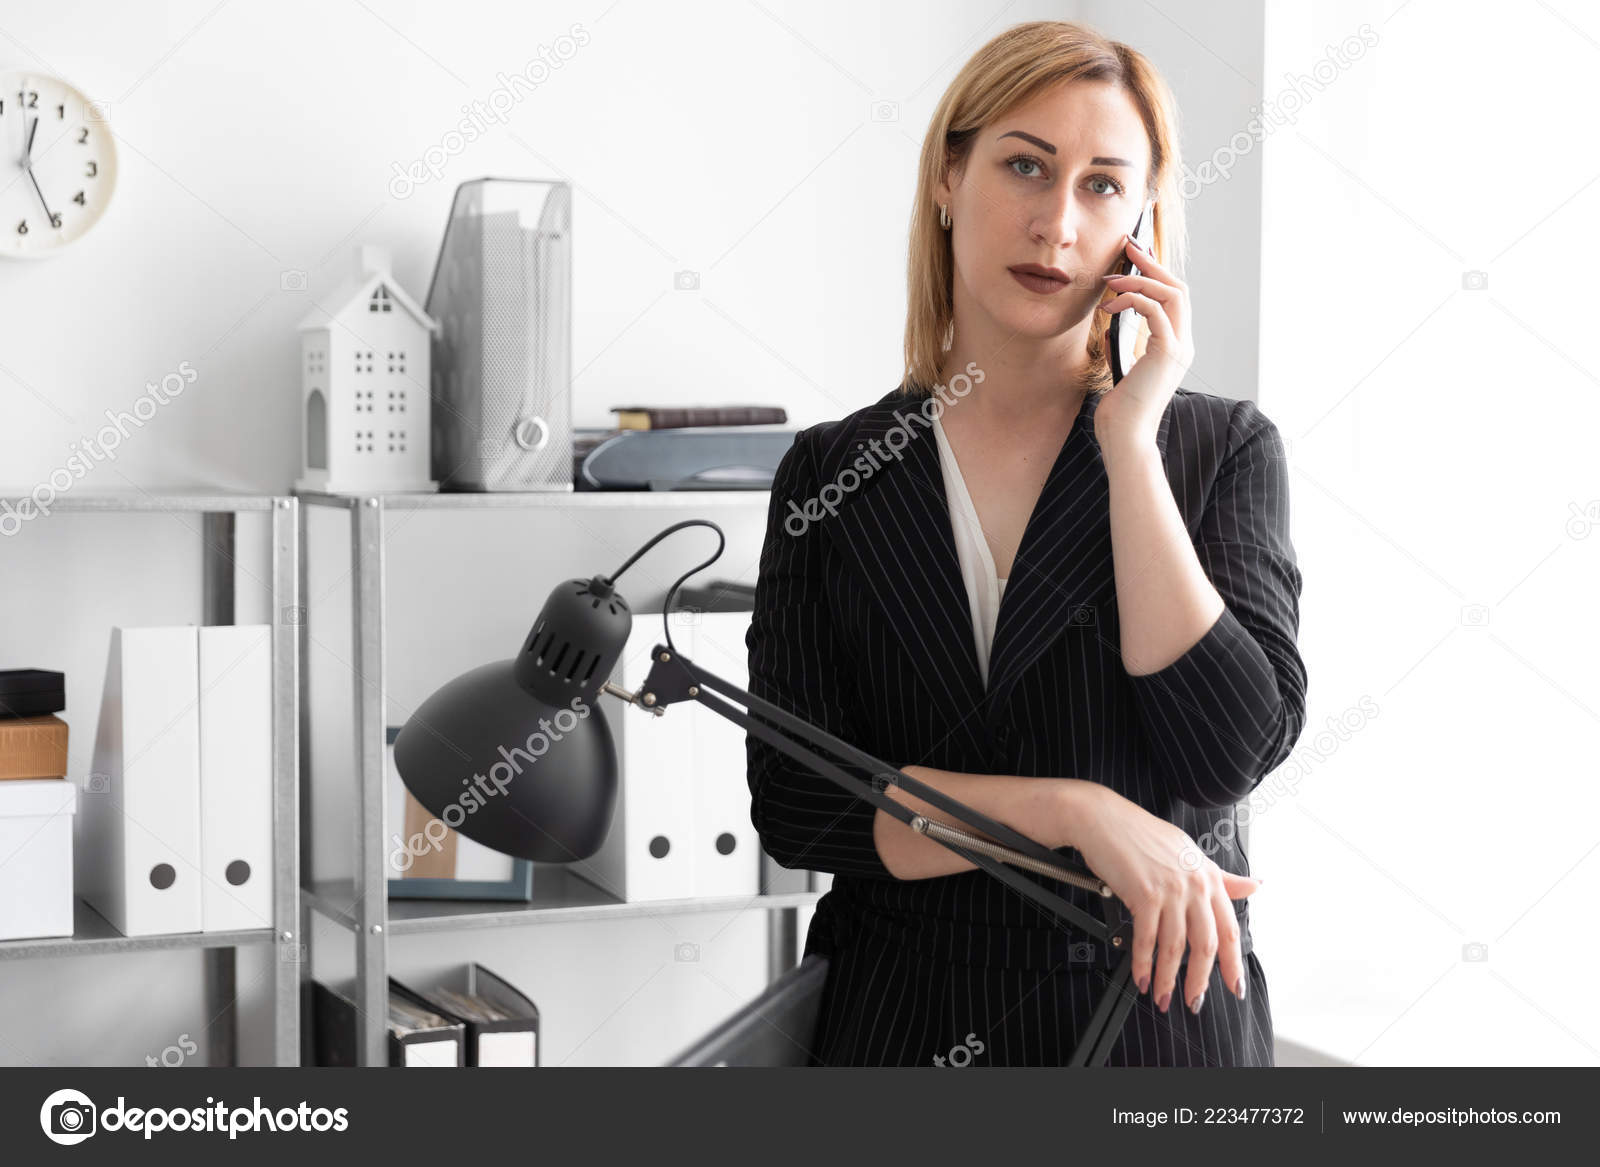phone: (1093, 198, 1201, 413)
talk: (966, 121, 1234, 447)
